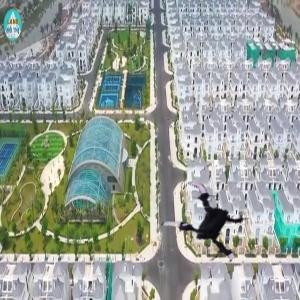drone: (161, 177, 261, 277)
